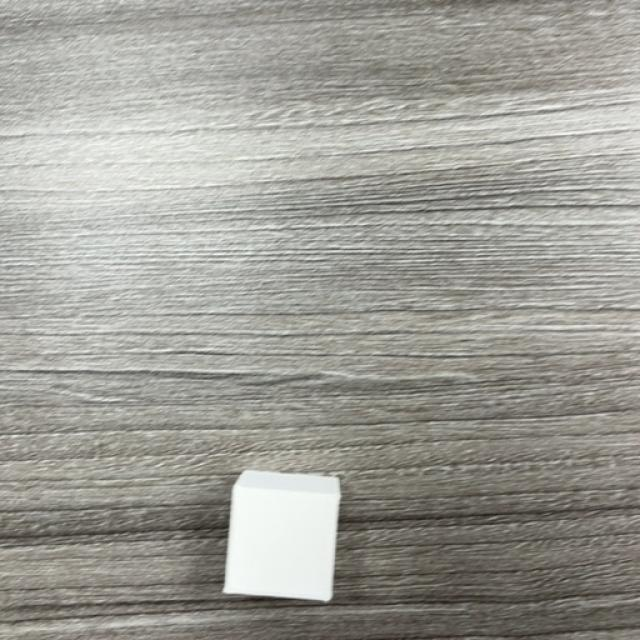Blanco: (222, 470, 341, 606)
